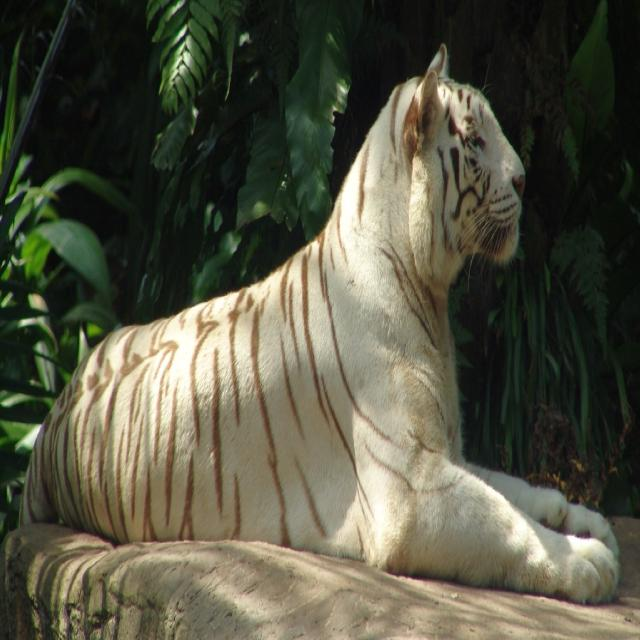Tiger: (14, 43, 626, 600)
